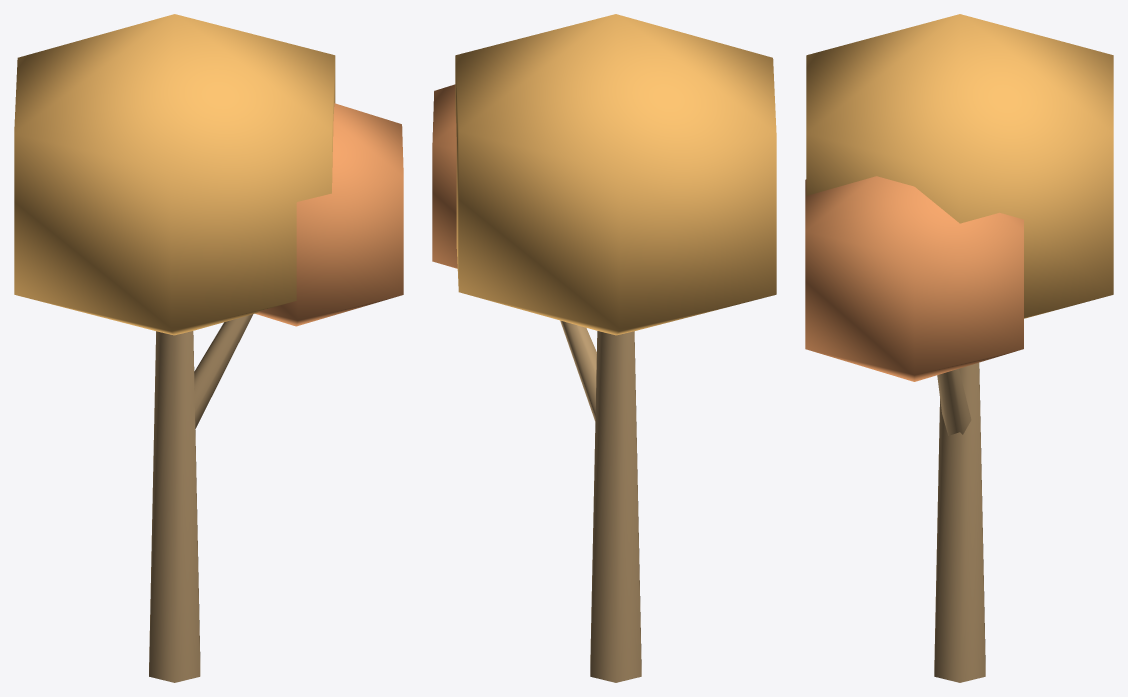
File: tree_sapling_autumn_low.glb
3 renders of one model, left to right at view 1: azimuth 30°, elevation 25°; view 2: azimuth 150°, elevation 25°; view 3: azimuth 270°, elevation 25°, orthographic.
Size of the model in its own units: 0.9255 by 1.59 by 0.6775.
